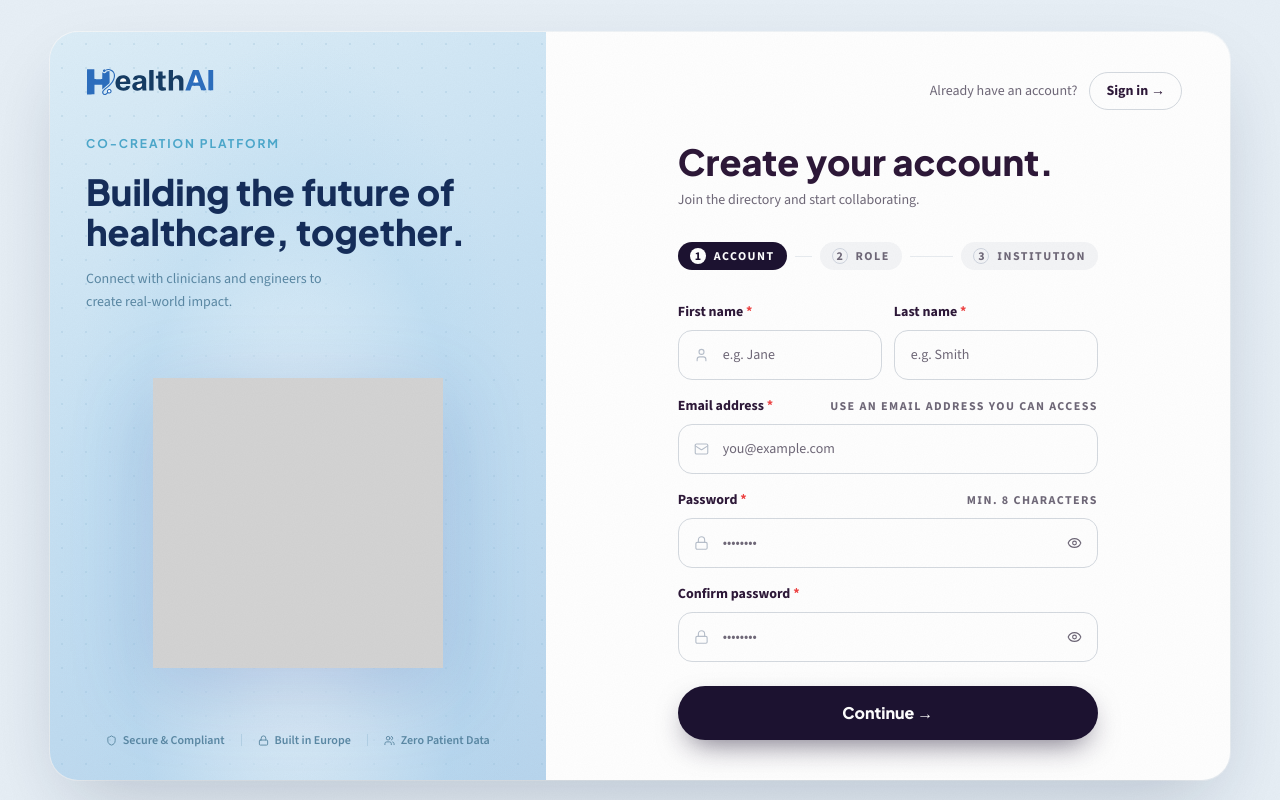
Test: RegisterPage — account step › moves on to the role step when the passwords match
Type "Alice" into the field labelled "First name *" at (780, 355), box left=678, top=330, right=882, bottom=380
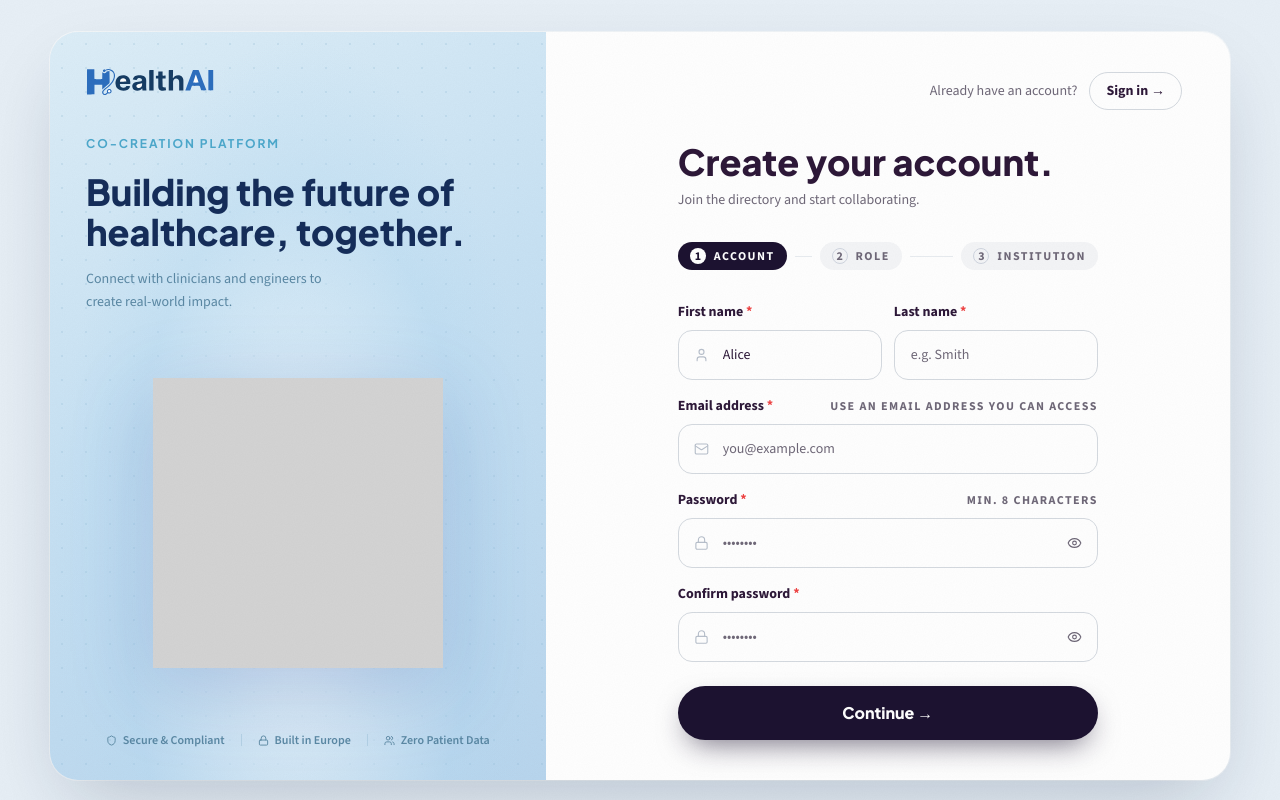
Type "Smith" into the field labelled "Last name *" at (996, 355), box left=894, top=330, right=1098, bottom=380
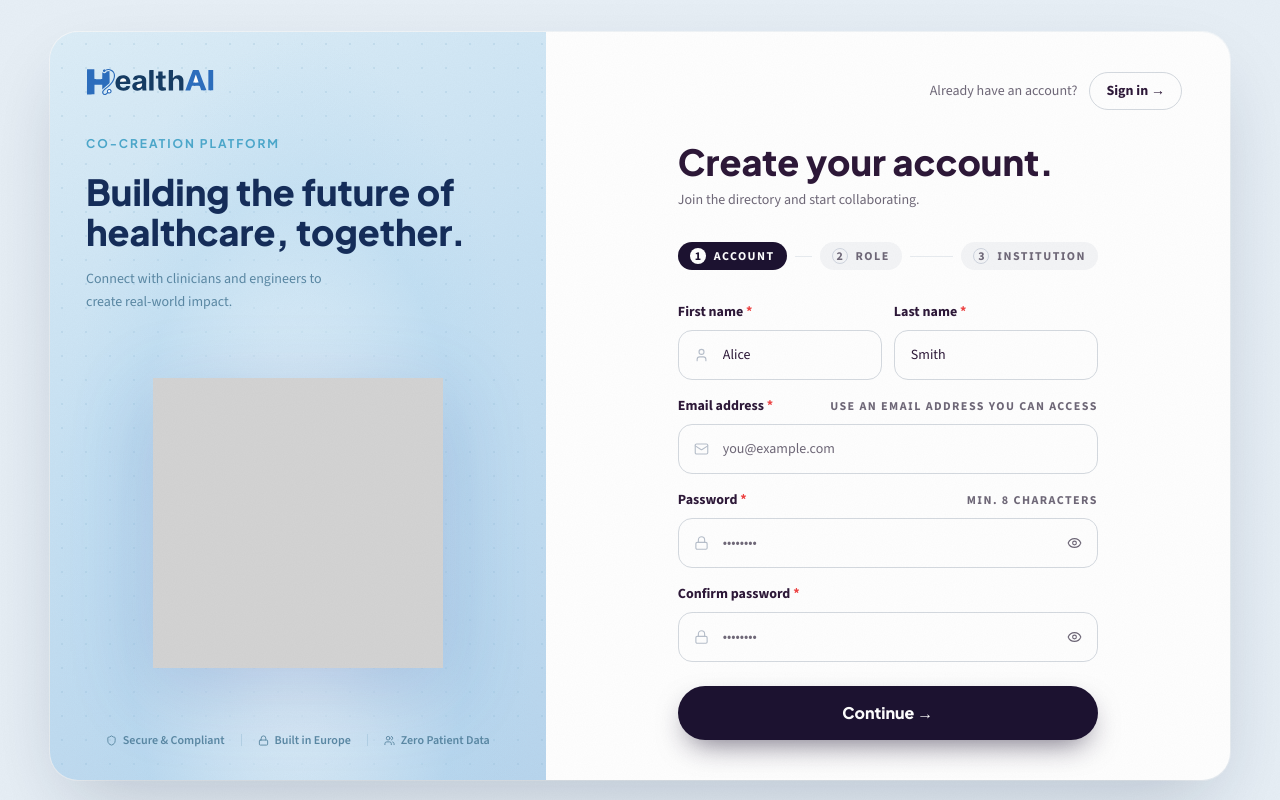
Type "alice@university.edu" into the field labelled "Email address *" at (888, 449), box left=678, top=424, right=1098, bottom=474
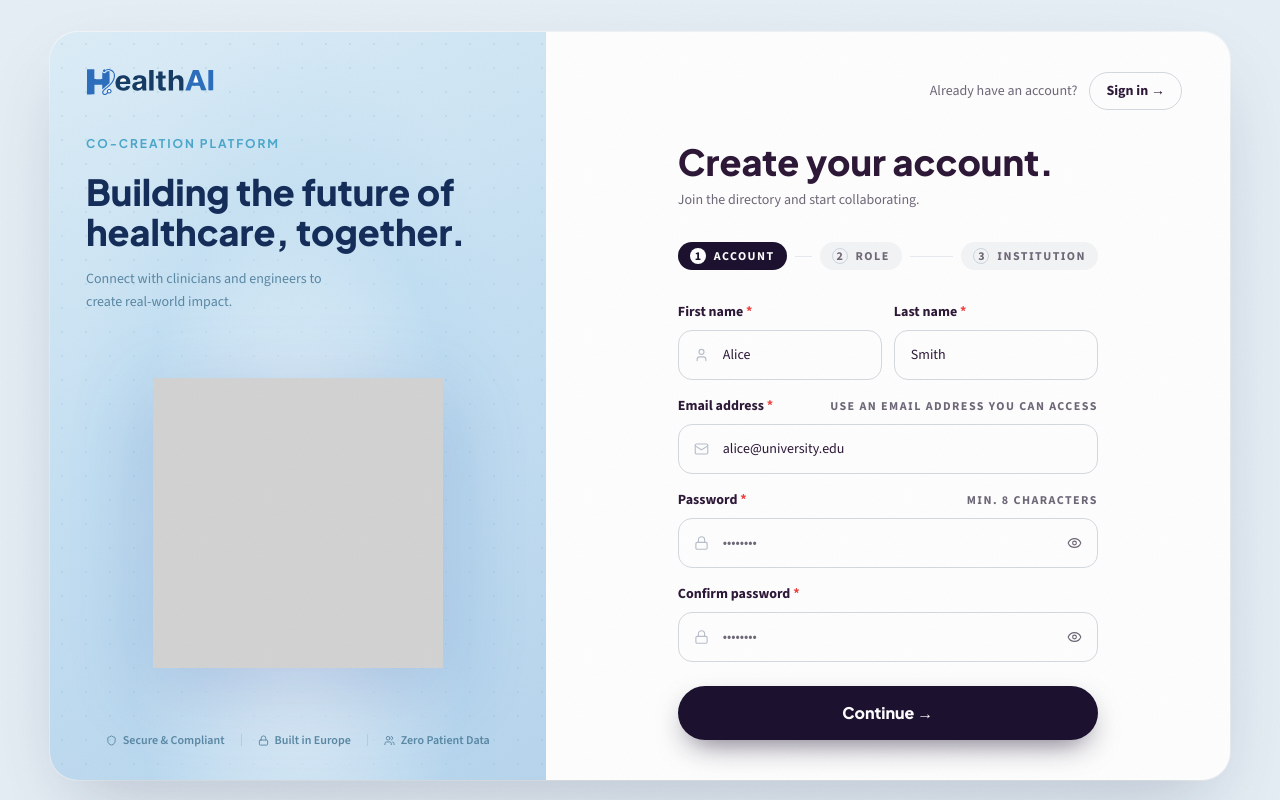
Type "password123" into the password field labelled "Password *" at (888, 543), box left=678, top=518, right=1098, bottom=568
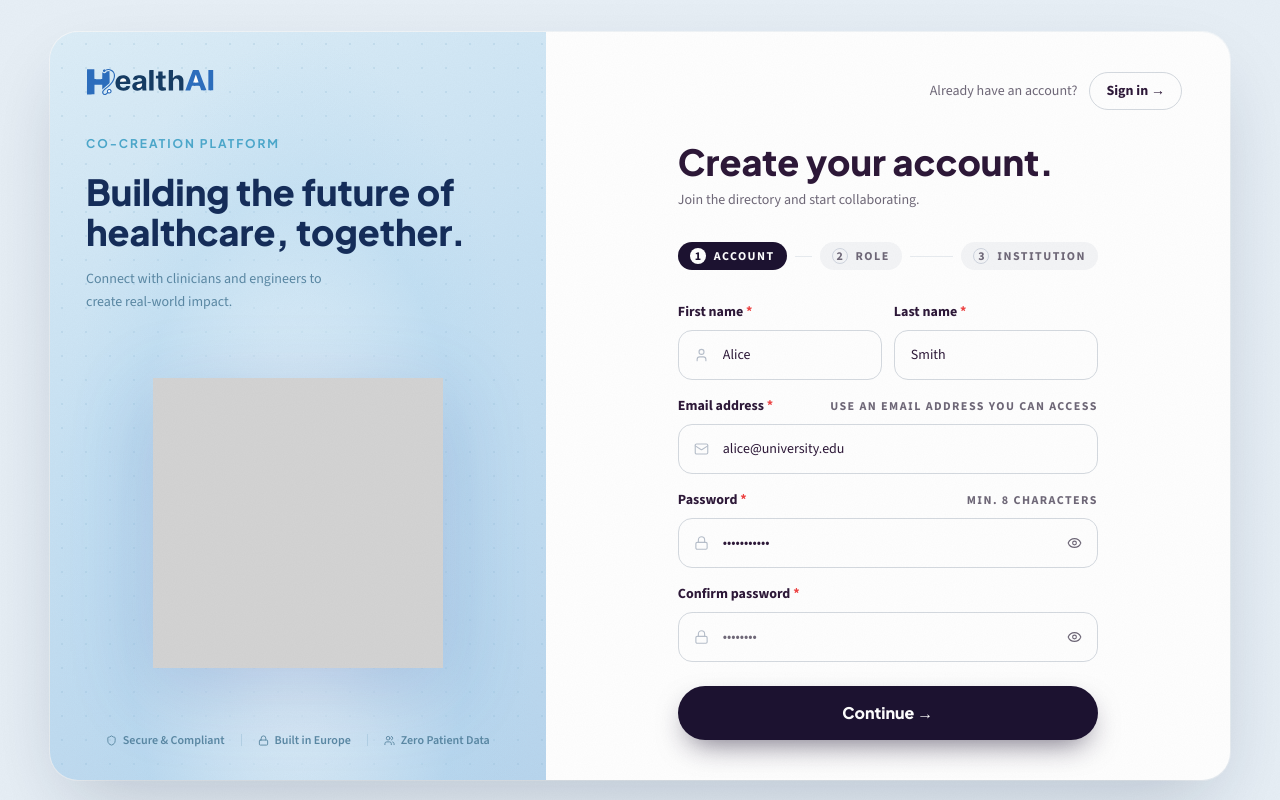
Type "password123" into the password field labelled "Confirm password *" at (888, 637), box left=678, top=612, right=1098, bottom=662
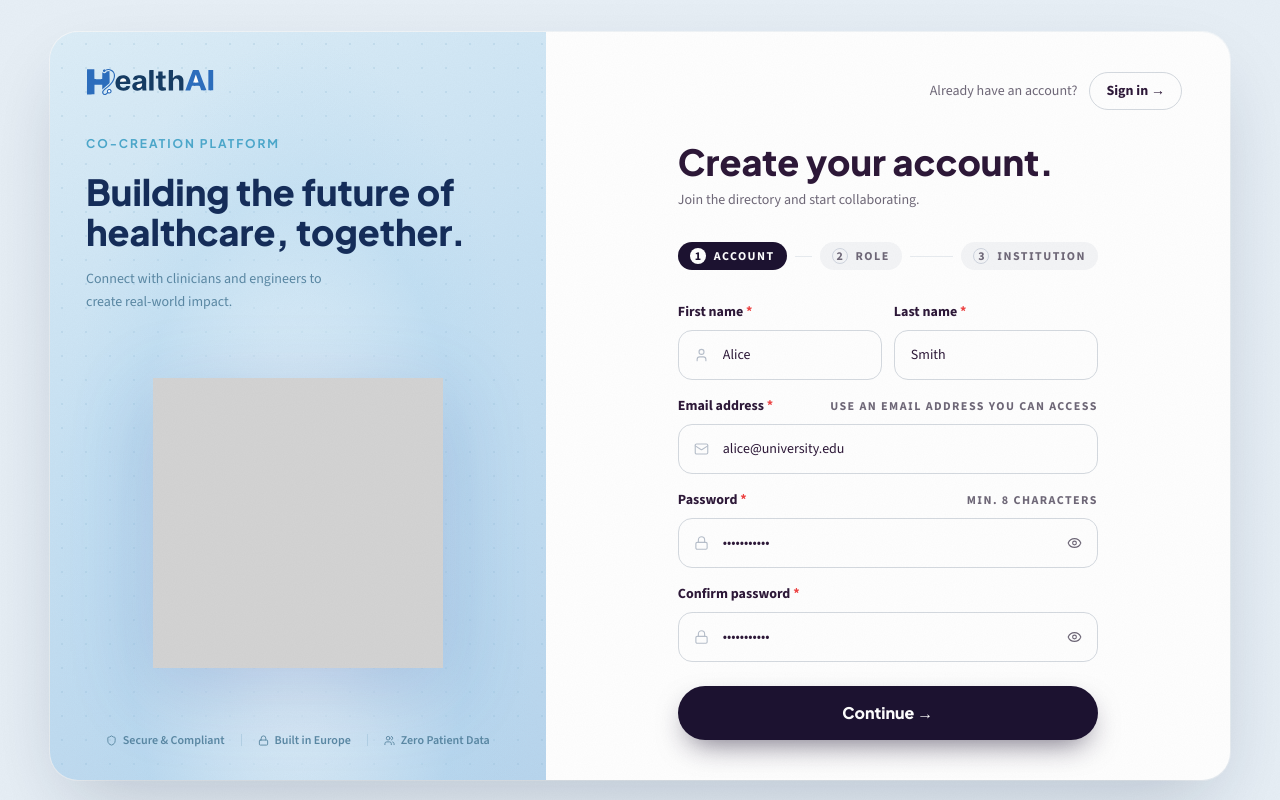
Click the button "Continue →" at (888, 713), box left=678, top=686, right=1098, bottom=740
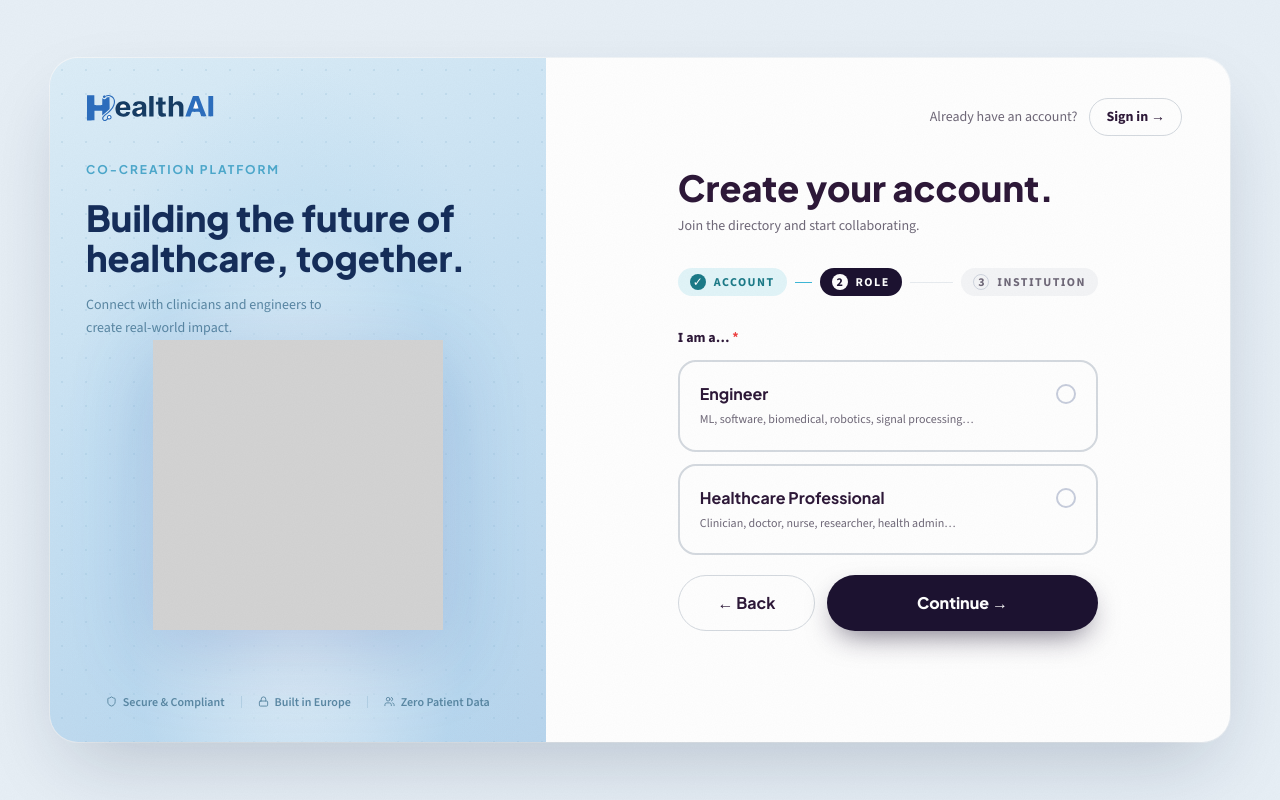
Expected: the text "I am a…" is shown, left=678, top=328, right=729, bottom=347
